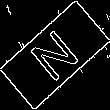N_SE: (25, 23, 85, 87)
